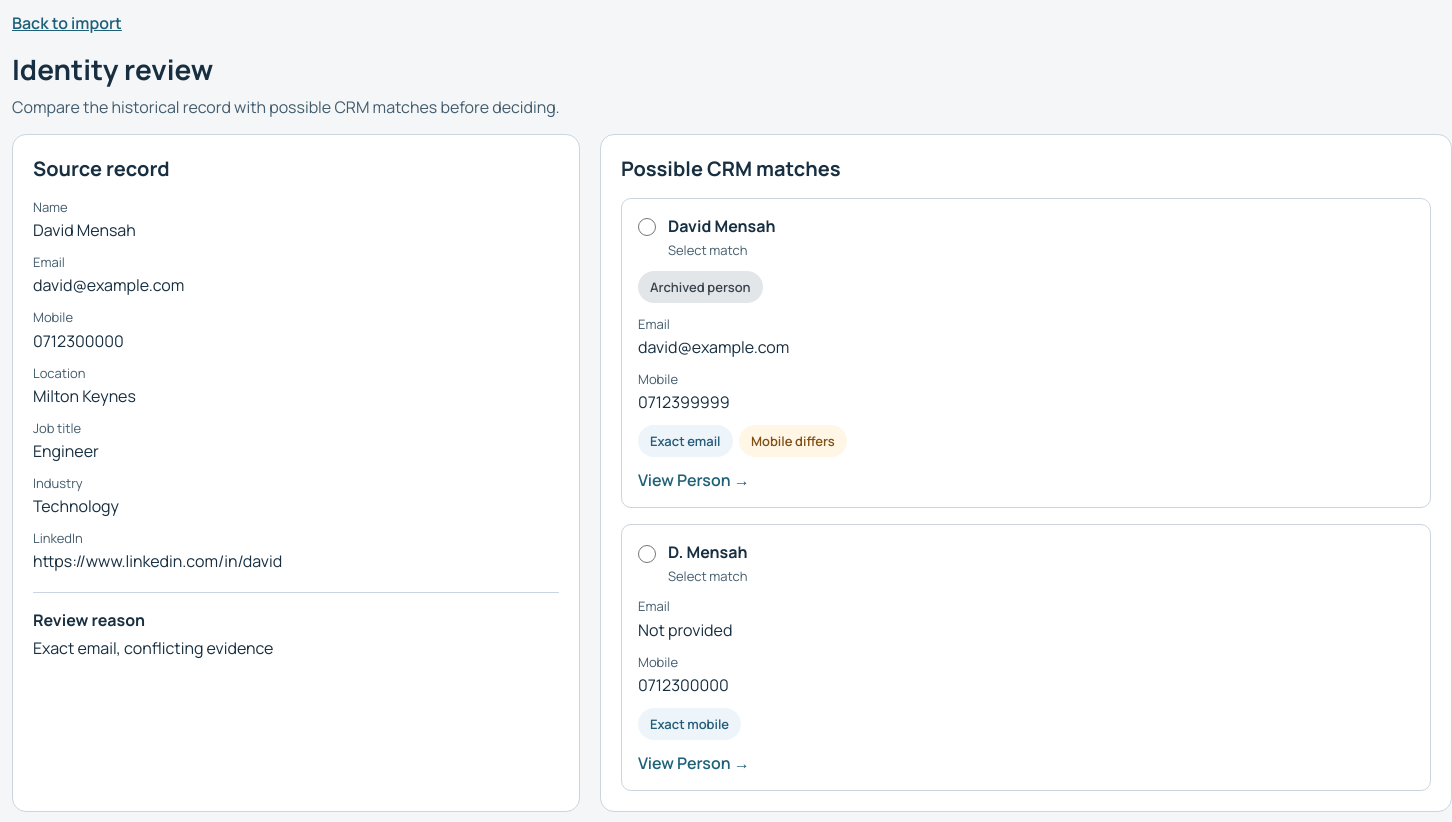
Test: ImportReviewPageComponent › makes selection visible and semantic and provides separate Person links
Click the radio button named "candidate": (647, 227) [638,218,656,236]
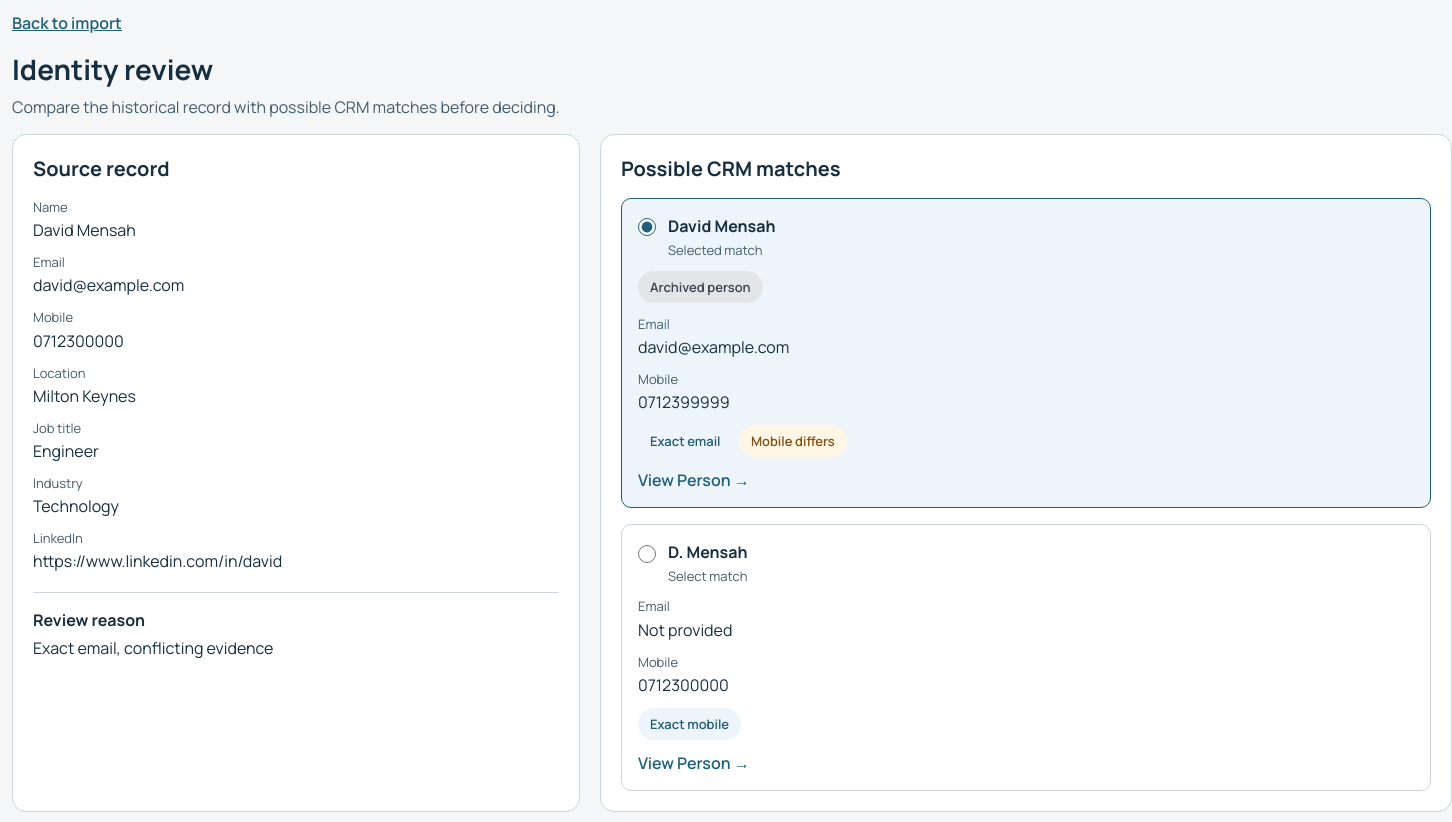
expect the text "Exact email" is shown: met, box [638,425,733,457]
expect the element with class "selected" shows "Selected match": met, box [668,241,762,259]
